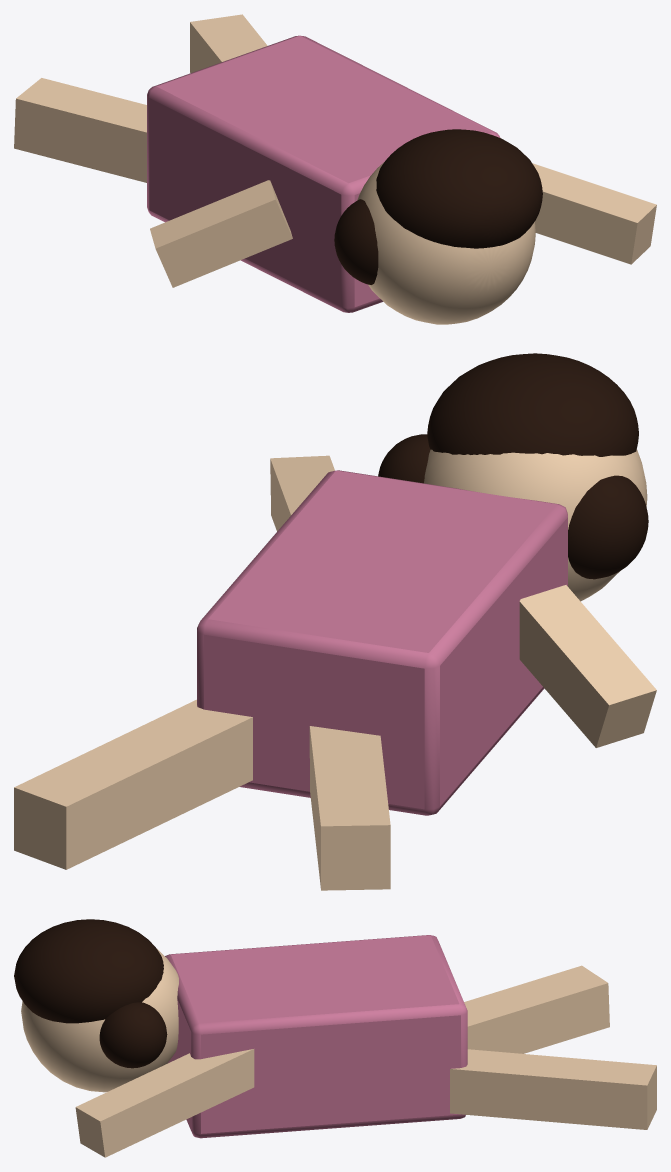
Rendered from BupBe_NhuaCu.glb.
The picture shows the model from 3 angles, top to bottom: view 1: azimuth 30°, elevation 25°; view 2: azimuth 150°, elevation 25°; view 3: azimuth 270°, elevation 25°; orthographic projection. The views are drawn at different scales.
Parts seen in each view (by area): view 1: BupBe_NhuaCu; view 2: BupBe_NhuaCu; view 3: BupBe_NhuaCu.
Boxes of the visible parts, left/top/right/bottom form: BupBe_NhuaCu: left=14, top=14, right=656, bottom=324; BupBe_NhuaCu: left=14, top=353, right=656, bottom=890; BupBe_NhuaCu: left=14, top=919, right=656, bottom=1157.
Size of the model in its own units: 0.2944 by 0.1321 by 0.4578.
